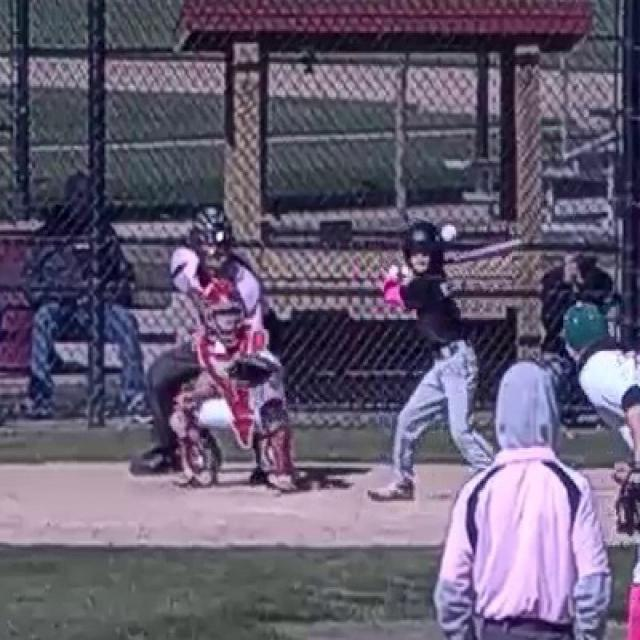baseball: (442, 225, 456, 241)
